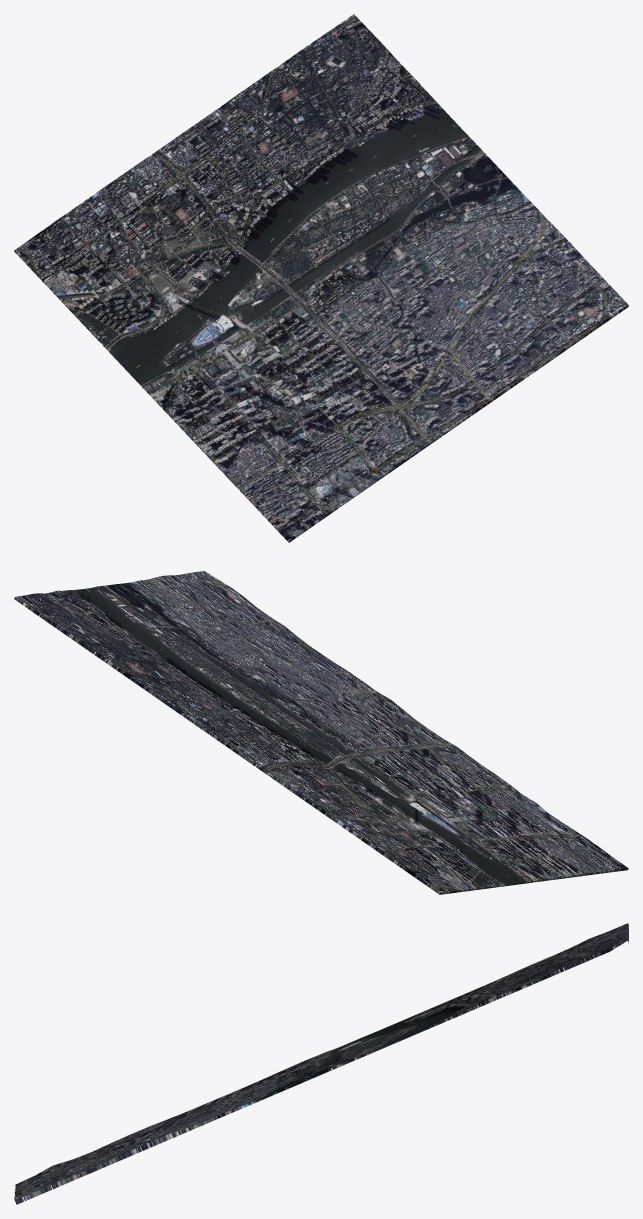
The picture shows the model from 3 angles, top to bottom: view 1: azimuth 30°, elevation 25°; view 2: azimuth 150°, elevation 25°; view 3: azimuth 270°, elevation 25°; orthographic projection. The views are drawn at different scales.
Visible parts, largest first — view 1: 3_1_2; view 2: 3_1_2; view 3: 3_1_2.
Boxes of the visible parts, left/top/right/bottom form: 3_1_2: left=14, top=14, right=628, bottom=542; 3_1_2: left=14, top=571, right=628, bottom=894; 3_1_2: left=14, top=923, right=628, bottom=1204.
Size of the model in its own units: 4897 by 3555 by 4496.
1 material, 1 textured.
